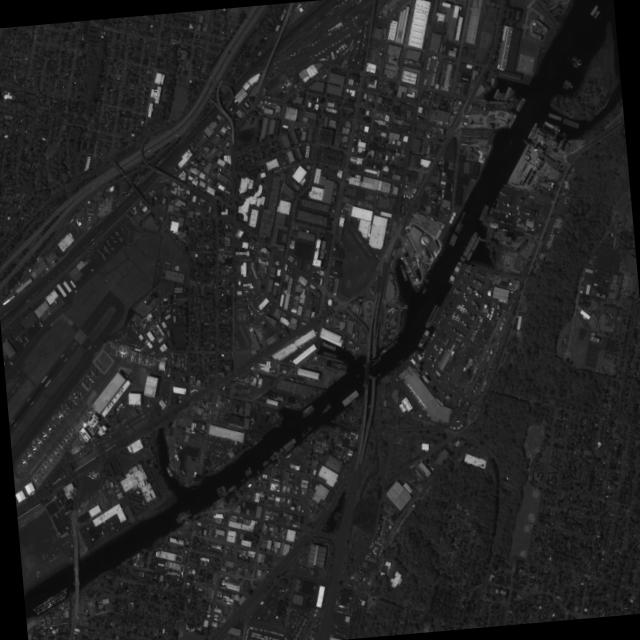plane: (61, 398, 74, 412), (78, 377, 91, 390), (87, 366, 99, 379), (70, 388, 82, 401), (115, 345, 127, 357), (44, 421, 55, 432), (18, 455, 28, 466), (24, 448, 34, 459), (29, 441, 39, 452), (39, 428, 49, 438), (34, 435, 44, 445), (65, 428, 75, 438), (60, 434, 70, 444), (35, 468, 45, 478), (51, 447, 60, 457), (45, 454, 54, 464), (30, 474, 39, 484), (55, 409, 64, 418), (56, 441, 65, 450), (41, 461, 49, 471), (134, 354, 142, 362), (85, 407, 93, 415), (142, 355, 149, 364), (127, 352, 134, 360), (38, 322, 42, 327), (72, 288, 76, 293), (46, 310, 50, 314), (150, 361, 154, 365), (89, 267, 92, 271), (104, 278, 107, 281), (106, 242, 109, 245), (109, 246, 112, 249), (110, 235, 113, 238), (114, 232, 117, 235), (118, 238, 121, 241), (114, 230, 117, 233), (156, 358, 159, 361), (37, 320, 40, 323), (106, 251, 109, 253), (105, 248, 107, 251), (104, 246, 106, 249), (103, 249, 106, 251), (102, 244, 104, 247), (2, 352, 4, 355), (100, 253, 103, 255), (105, 240, 107, 243), (105, 238, 107, 241), (111, 246, 113, 249), (109, 235, 111, 238), (112, 239, 114, 242), (113, 230, 115, 233), (117, 236, 119, 239), (119, 236, 121, 239), (118, 225, 120, 228), (23, 341, 26, 343), (25, 339, 27, 342), (18, 338, 20, 341), (19, 339, 21, 342), (22, 344, 24, 347), (23, 336, 26, 338), (25, 338, 28, 340), (120, 227, 122, 230), (102, 255, 104, 257), (102, 247, 104, 249), (102, 257, 104, 259), (100, 255, 102, 257), (99, 251, 101, 253), (96, 249, 98, 251), (114, 240, 116, 242), (116, 233, 118, 235), (3, 355, 5, 357), (18, 337, 20, 339), (22, 343, 24, 345), (22, 335, 24, 337), (24, 337, 26, 339), (14, 338, 17, 339), (98, 251, 99, 253)
ship: (458, 230, 478, 262), (423, 303, 439, 328), (446, 260, 461, 284), (340, 388, 358, 405), (416, 328, 429, 347), (174, 509, 191, 523), (378, 341, 394, 355), (505, 111, 517, 129), (525, 121, 537, 138), (281, 436, 295, 450), (542, 120, 559, 131), (477, 203, 487, 220), (561, 117, 578, 127), (514, 96, 525, 111), (566, 53, 581, 64), (301, 406, 313, 418), (319, 403, 330, 414), (299, 425, 311, 435), (502, 85, 510, 100), (546, 112, 561, 120), (300, 403, 312, 412), (588, 3, 597, 14), (506, 88, 514, 100), (567, 59, 578, 67), (457, 210, 464, 222), (447, 232, 454, 244), (175, 509, 185, 517), (562, 80, 572, 88), (455, 222, 462, 233), (450, 234, 457, 245), (591, 8, 599, 17), (492, 87, 498, 98), (227, 484, 236, 491), (453, 221, 459, 231), (260, 459, 268, 466), (563, 78, 571, 84), (494, 91, 500, 99), (498, 91, 504, 99), (561, 83, 567, 88), (420, 287, 425, 293)
